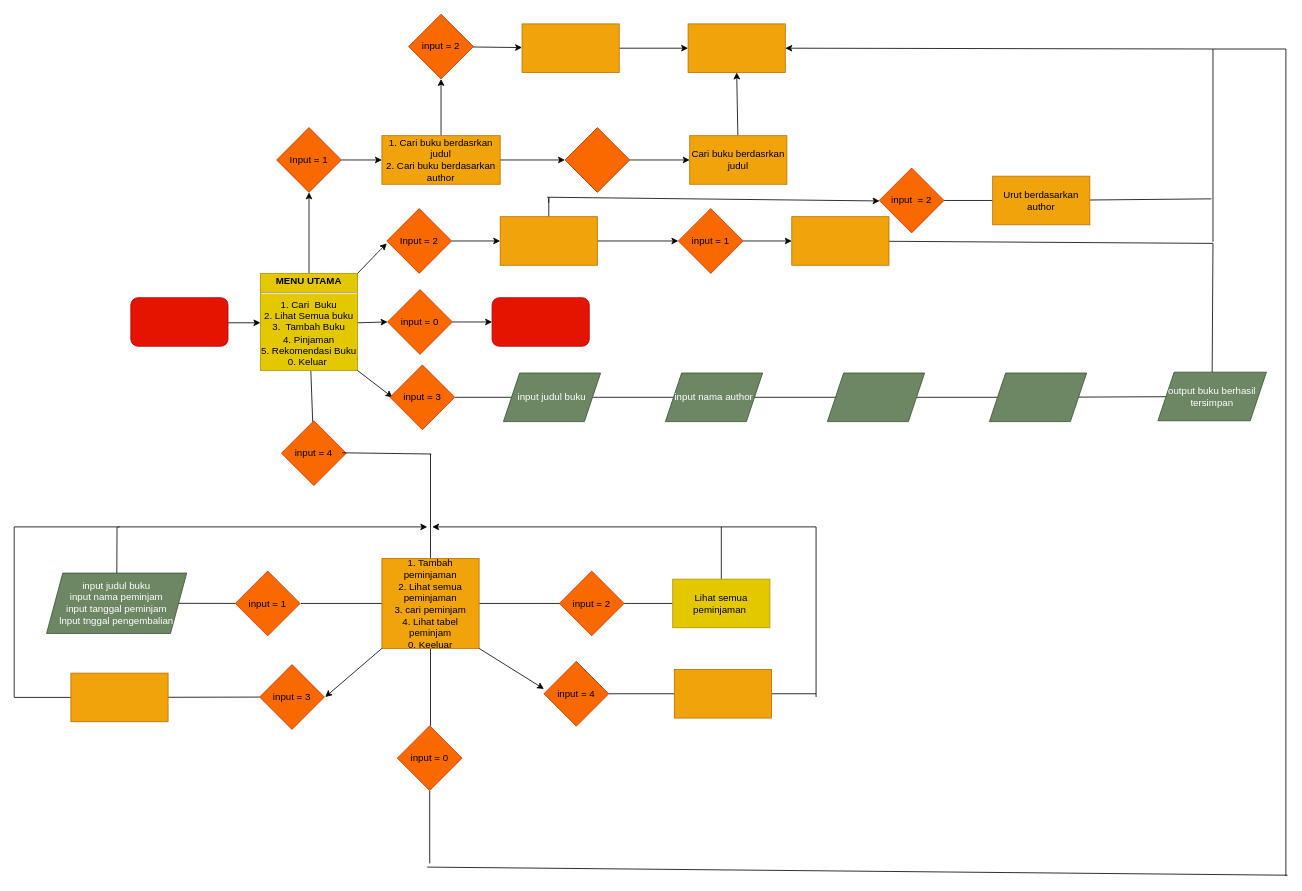
The diagram is 1302 pixels wide and 891 high, and some of its shapes have lost their labels. Here are the shapes that lost their labels. From the top down, the centre of each, then its label:
At (570,47): "Cari buku berdasarkan author".
At (736,47): "Kembali ke MENU UTAMA".
At (597,159): "input =1".
At (548,240): "1. Urut berdasrkan judul 2. Urut berdasarkan tahun terbit".
At (840,240): "Urut berdaskan judul".
At (179,321): "START".
At (540,321): "END".
At (876,397): "input tahun terbit".
At (1038,397): "input genre buku".
At (119,697): "cari peminjam".
At (723,693): "Lihat tabel peminjam".
